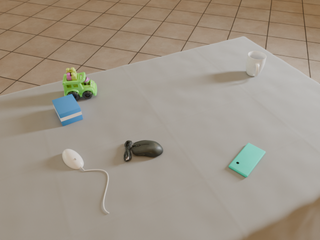box: (52, 94, 83, 126)
cup: (246, 51, 266, 76)
mouse: (124, 140, 163, 161), (62, 149, 84, 169)
phone: (229, 143, 265, 177)
toy_car: (63, 68, 97, 100)
